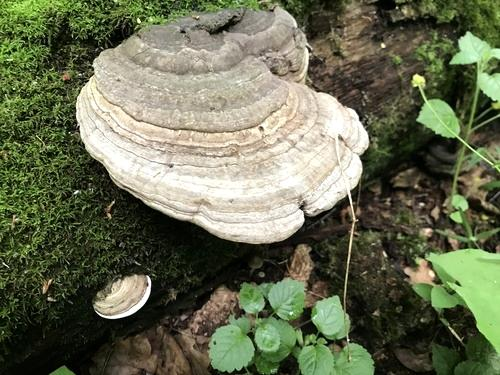Ganoderma - Fruit Body: (73, 4, 372, 244), (94, 275, 153, 320)
